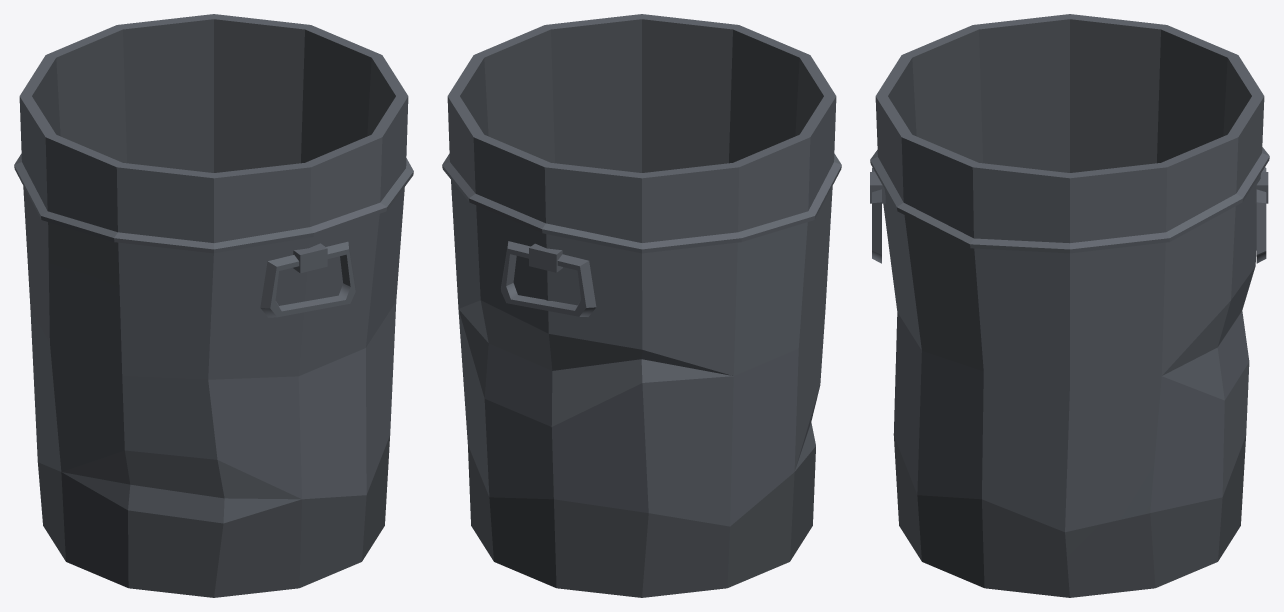
Rendered from trashcan.glb.
3 views of the same model, side by side, from view 1: azimuth 30°, elevation 25°; view 2: azimuth 150°, elevation 25°; view 3: azimuth 270°, elevation 25° (orthographic).
Parts seen in each view (by area): view 1: SM_Prop_TrashCan_01; view 2: SM_Prop_TrashCan_01; view 3: SM_Prop_TrashCan_01.
Boxes of the visible parts, left/top/right/bottom form: SM_Prop_TrashCan_01: left=14, top=14, right=413, bottom=597; SM_Prop_TrashCan_01: left=442, top=14, right=841, bottom=597; SM_Prop_TrashCan_01: left=870, top=14, right=1269, bottom=597.
Size of the model in its own units: 0.7315 by 0.8674 by 0.7315.
Materials: 1 (1 with a texture image).
